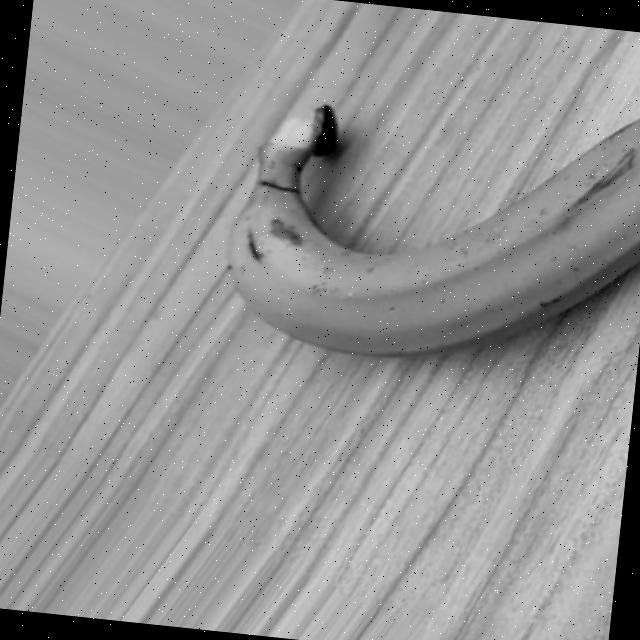Unripe: (214, 64, 640, 383)
